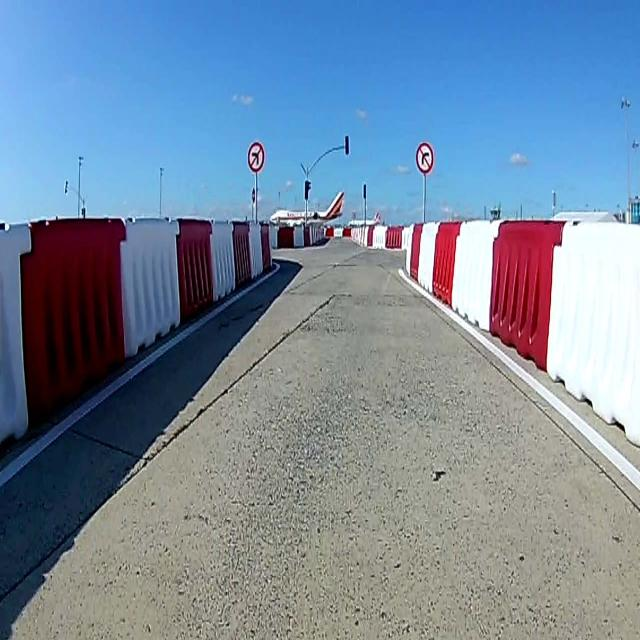sagadonulmez: (416, 141, 430, 171)
soladonulmez: (248, 140, 264, 172)
